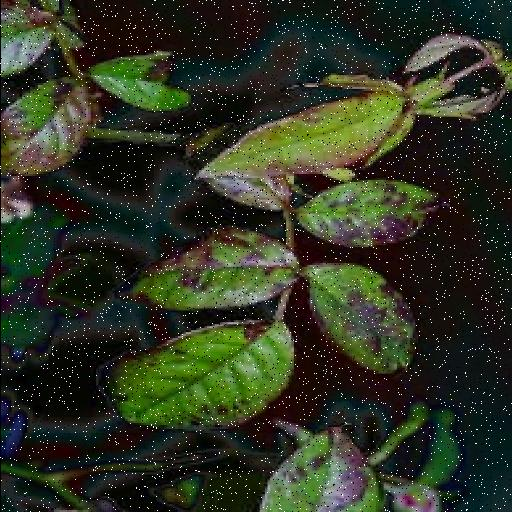downy_mildew: (106, 322, 292, 425), (196, 92, 406, 176), (125, 227, 295, 309), (301, 262, 414, 372), (259, 426, 382, 511), (296, 179, 438, 246), (1, 77, 92, 174), (88, 51, 187, 109), (1, 5, 55, 74), (367, 403, 427, 463), (404, 33, 490, 72), (415, 409, 459, 485), (204, 175, 290, 208), (415, 86, 504, 117), (301, 73, 403, 93), (386, 482, 438, 511)
